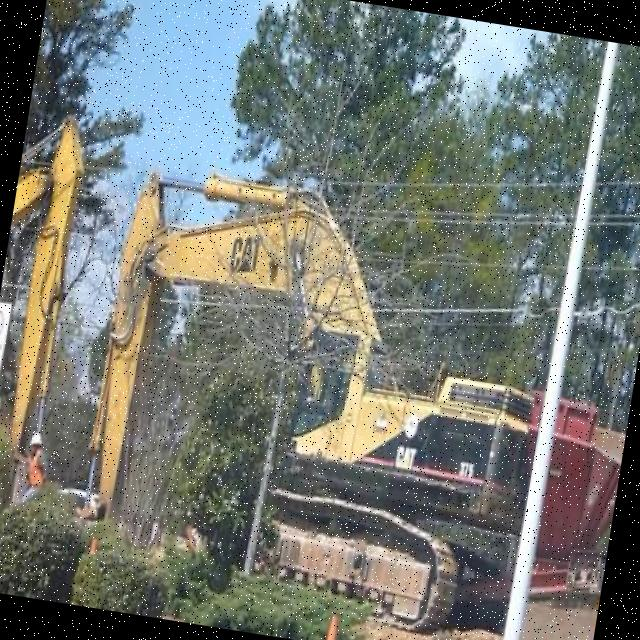Excavator: (65, 154, 565, 640), (0, 103, 96, 520)
